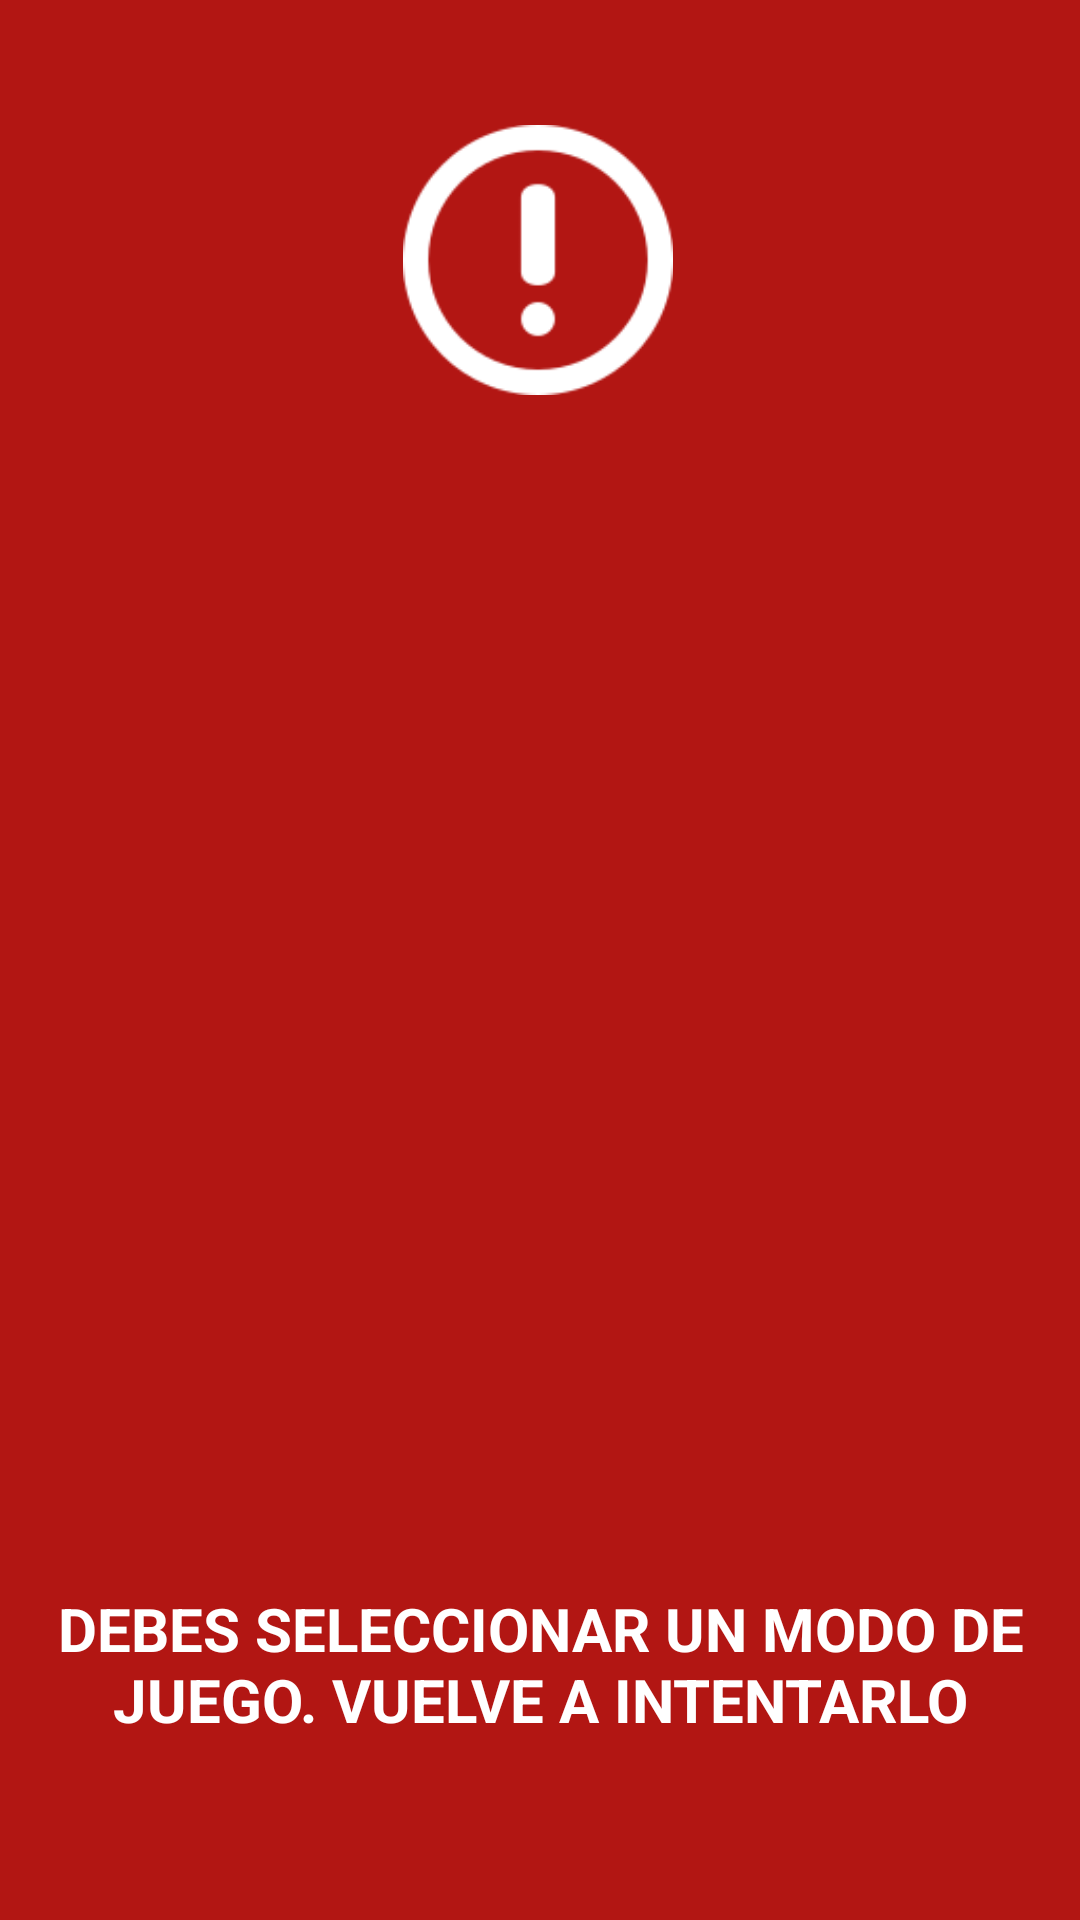

Named icons in this screenshot (1080 x 1920) and their centers, point (x, y):
error sesion: point (538, 260)
